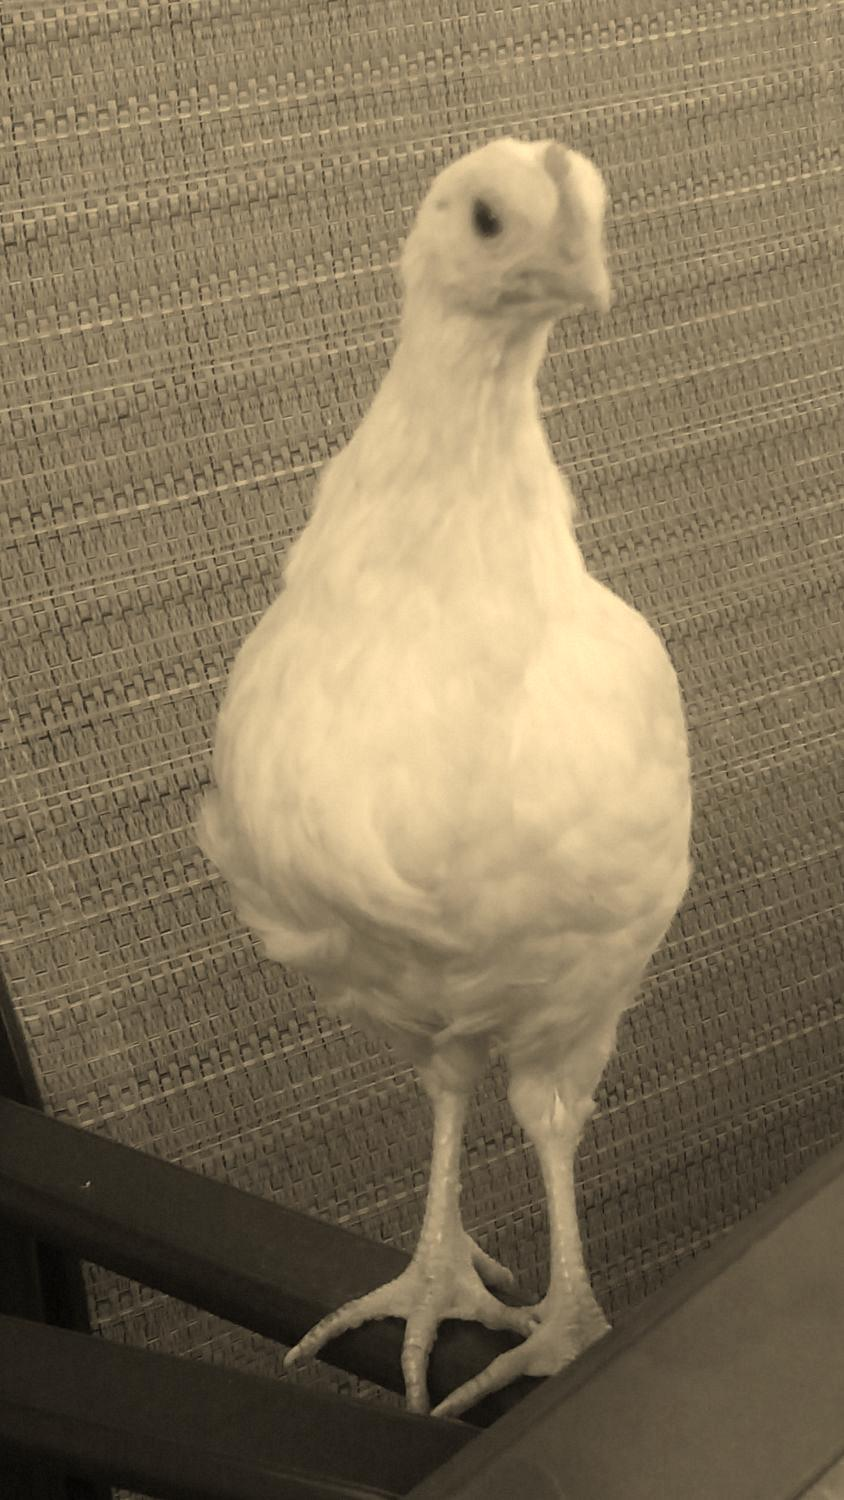Healthy: (178, 92, 736, 1403)
